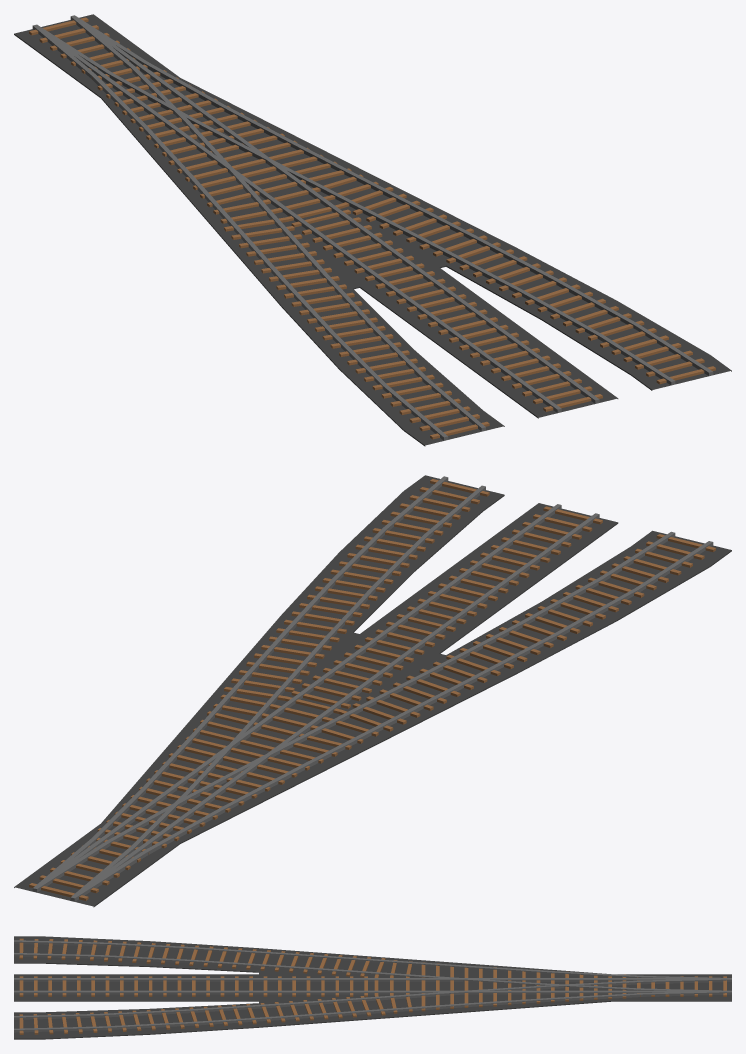
File: SM_Floor_Railway_04.fbx
The picture shows the model from 3 angles, top to bottom: view 1: azimuth 30°, elevation 25°; view 2: azimuth 150°, elevation 25°; view 3: azimuth 270°, elevation 25°; orthographic projection. The views are drawn at different scales.
Parts seen in each view (by area): view 1: SM_Floor_Railway_04; view 2: SM_Floor_Railway_04; view 3: SM_Floor_Railway_04.
Part boxes in pixels (box(x1,y1,x2,y2)): SM_Floor_Railway_04: box(14, 14, 731, 446); SM_Floor_Railway_04: box(14, 475, 731, 907); SM_Floor_Railway_04: box(14, 936, 731, 1039).
Bounding box in the file's own units: 13.5 × 0.2 × 40.
